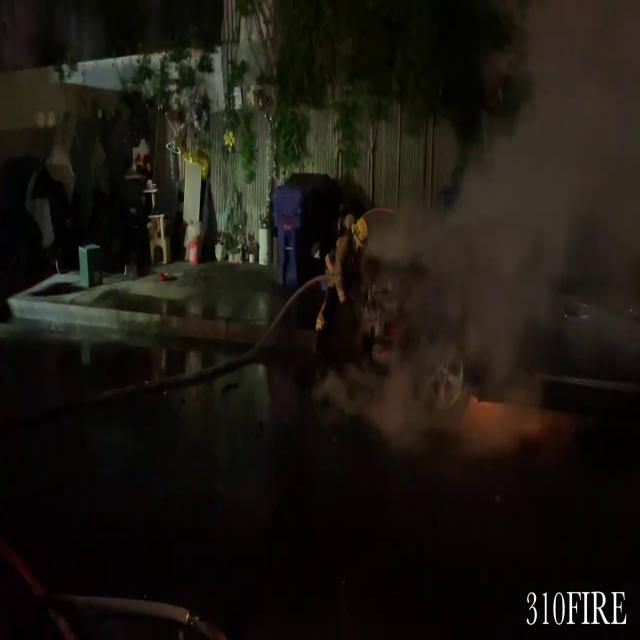Smoke: (365, 0, 640, 474)
